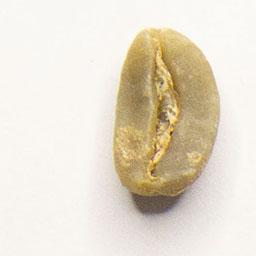longberry: (109, 22, 222, 201)
